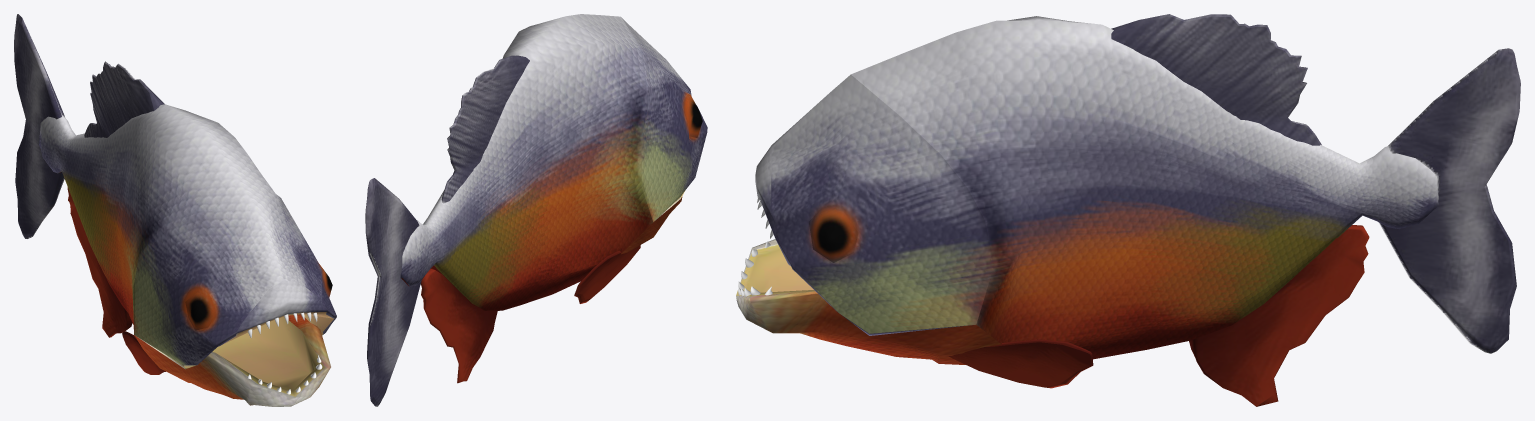
The model's file is piranha_swim.fbx.
The picture shows the model from 3 angles, left to right: view 1: azimuth 30°, elevation 25°; view 2: azimuth 150°, elevation 25°; view 3: azimuth 270°, elevation 25°; orthographic projection. The views are drawn at different scales.
Visible parts, largest first — view 1: fish_body_noTurn, fish_tail_noTurn, fish_fin_dorsal_noTurn, fish_fin_ventral_noTurn, fin_right_noTurn; view 2: fish_body_noTurn, fish_tail_noTurn, fish_fin_dorsal_noTurn, fish_fin_ventral_noTurn, fin_right_noTurn; view 3: fish_body_noTurn, fish_tail_noTurn, fish_fin_dorsal_noTurn, fish_fin_ventral_noTurn, fin_left_noTurn.
Part boxes in pixels (left/top/right/bottom): fish_body_noTurn: left=39, top=104, right=336, bottom=406; fish_tail_noTurn: left=14, top=14, right=64, bottom=238; fish_fin_dorsal_noTurn: left=84, top=61, right=164, bottom=137; fish_fin_ventral_noTurn: left=67, top=187, right=132, bottom=337; fin_right_noTurn: left=122, top=331, right=165, bottom=374; fish_body_noTurn: left=400, top=14, right=707, bottom=310; fish_tail_noTurn: left=365, top=178, right=421, bottom=406; fish_fin_dorsal_noTurn: left=441, top=55, right=529, bottom=203; fish_fin_ventral_noTurn: left=421, top=268, right=497, bottom=383; fin_right_noTurn: left=574, top=245, right=640, bottom=303; fish_body_noTurn: left=736, top=16, right=1438, bottom=364; fish_tail_noTurn: left=1379, top=48, right=1520, bottom=353; fish_fin_dorsal_noTurn: left=1111, top=14, right=1321, bottom=145; fish_fin_ventral_noTurn: left=1189, top=225, right=1369, bottom=406; fin_left_noTurn: left=949, top=339, right=1093, bottom=388.
Size of the model in its own units: 2.95 by 5.21 by 9.46.
1 material, 1 textured.
